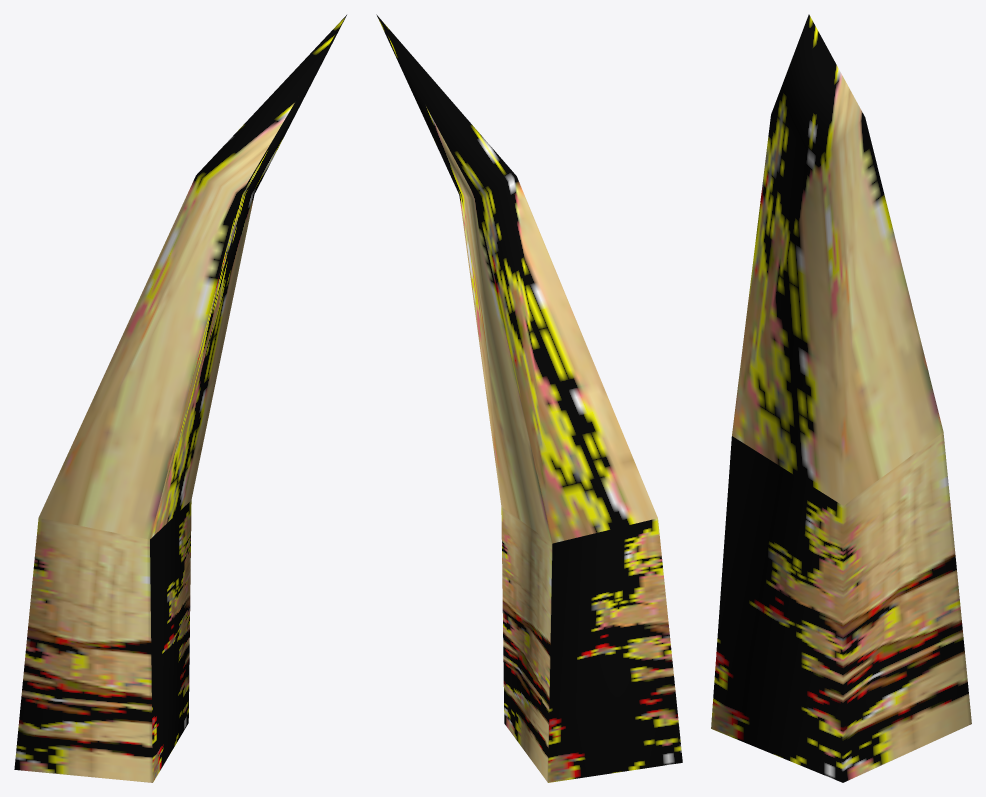
File: orcfencepost.obj
The picture shows the model from 3 angles, left to right: view 1: azimuth 30°, elevation 25°; view 2: azimuth 150°, elevation 25°; view 3: azimuth 270°, elevation 25°; orthographic projection. The views are drawn at different scales.
Visible parts, largest first — view 1: OrcFencePost; view 2: OrcFencePost; view 3: OrcFencePost.
Boxes of the visible parts, x1,y1,x2,y2 form: OrcFencePost: (14, 15, 346, 782); OrcFencePost: (376, 14, 682, 782); OrcFencePost: (711, 14, 971, 782).
Bounding box in the file's own units: 2.45 × 4.95 × 1.36.
